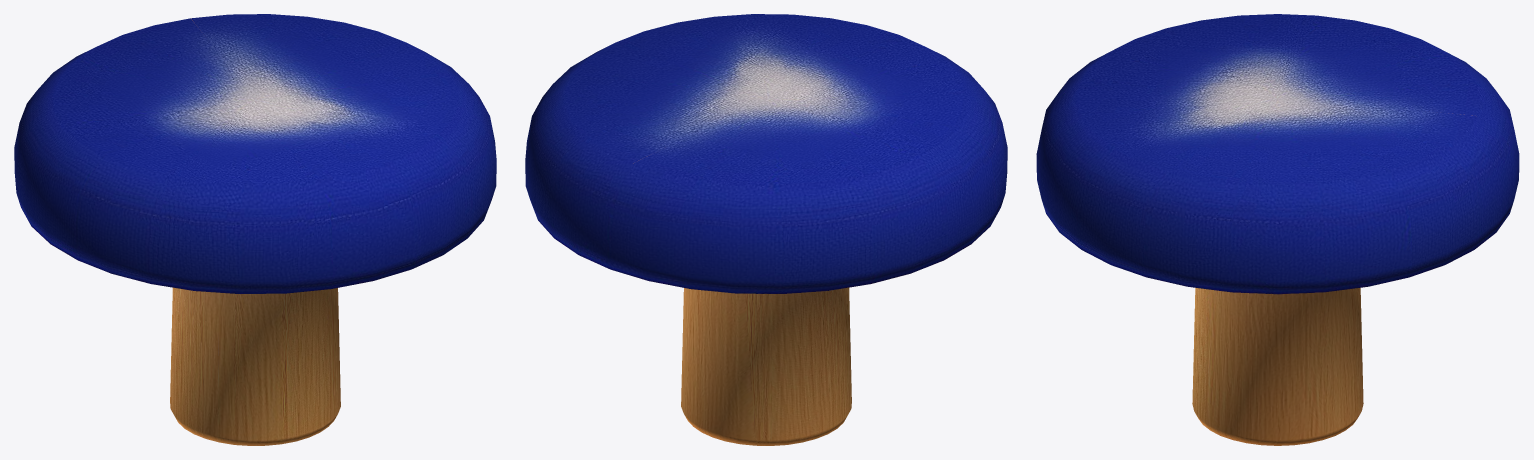
File: bumper-blue.glb
3 views of the same model, side by side, from view 1: azimuth 30°, elevation 25°; view 2: azimuth 150°, elevation 25°; view 3: azimuth 270°, elevation 25° (orthographic).
Visible parts, largest first — view 1: tripo_node_07fc8f7f-4a90-4d57-99a0-021dc9033235; view 2: tripo_node_07fc8f7f-4a90-4d57-99a0-021dc9033235; view 3: tripo_node_07fc8f7f-4a90-4d57-99a0-021dc9033235.
Part boxes in pixels (box(x1,y1,x2,y2)): tripo_node_07fc8f7f-4a90-4d57-99a0-021dc9033235: box(14, 14, 496, 445); tripo_node_07fc8f7f-4a90-4d57-99a0-021dc9033235: box(525, 14, 1007, 445); tripo_node_07fc8f7f-4a90-4d57-99a0-021dc9033235: box(1036, 14, 1519, 445).
Bounding box in the file's own units: 0.9995 × 0.7134 × 0.9995.
1 material, 1 textured.
